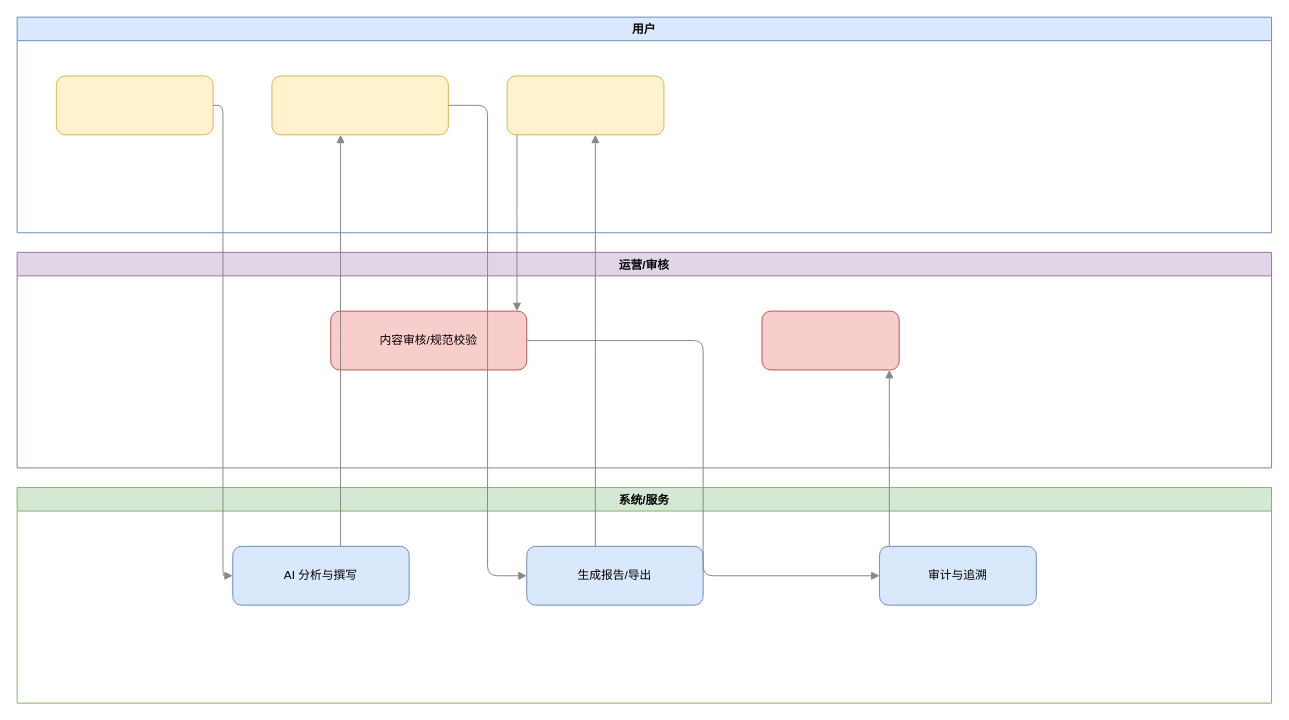
Some shapes in this 1289 by 720 pixel diagram are drawn without their labels. Here are the shapes that lost their labels. From the top down, the centre of each, then its label:
At [134,105]: "提出报告需求".
At [359,105]: "补充数据/选择模板".
At [585,105]: "确认草稿/反馈".
At [830,340]: "发布/归档".
